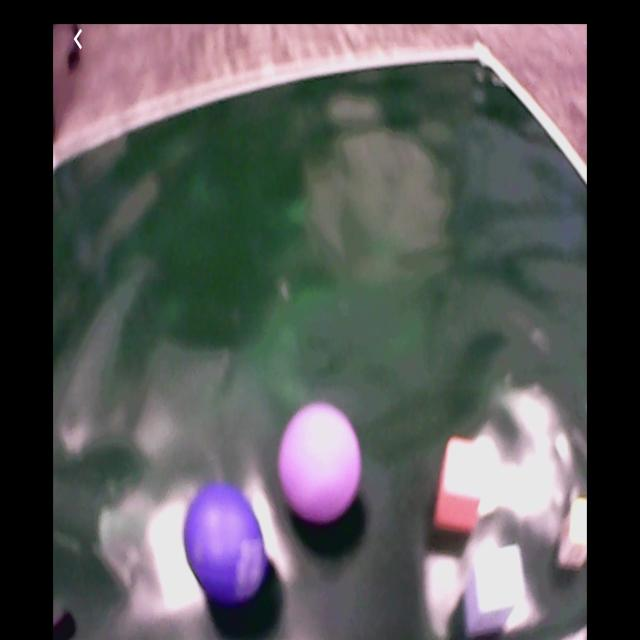ball: (184, 483, 268, 607), (281, 404, 362, 521)
